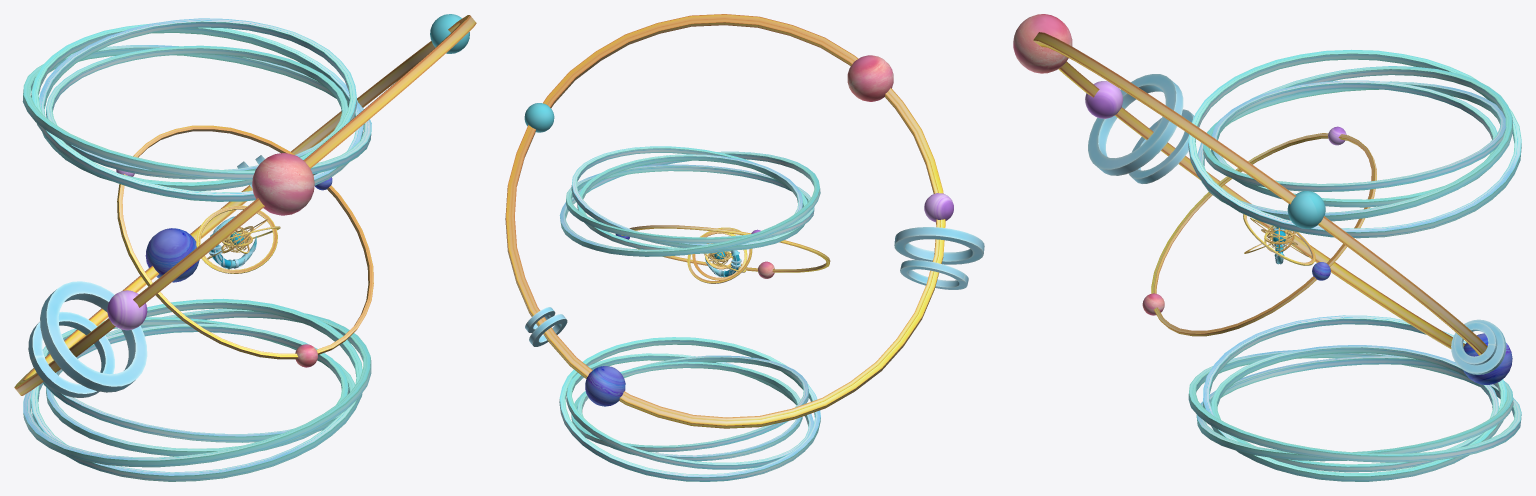
Rendered from Wonderful_Monument.fbx.
3 views of the same model, side by side, from view 1: azimuth 30°, elevation 25°; view 2: azimuth 150°, elevation 25°; view 3: azimuth 270°, elevation 25° (orthographic). The views are drawn at different scales.
Parts seen in each view (by area): view 1: Sphere.025, Sphere.026, Sphere.007, Sphere.031, Sphere.033, Sphere.029, Sphere.027, Sphere.028, Sphere.023, Sphere.035, Sphere.008; view 2: Sphere.026, Sphere.007, Sphere.025, Sphere.031, Sphere.029, Sphere.027, Sphere.028, Sphere.033, Sphere.030; view 3: Sphere.026, Sphere.025, Sphere.007, Sphere.031, Sphere.033, Sphere.029, Sphere.027, Sphere.030, Sphere.035, Sphere.028.
Boxes of the visible parts, x1=… form: Sphere.025: x1=31, y1=23, x2=363, y2=481; Sphere.026: x1=22, y1=18, x2=371, y2=467; Sphere.007: x1=14, y1=15, x2=476, y2=395; Sphere.031: x1=28, y1=281, x2=147, y2=397; Sphere.033: x1=117, y1=125, x2=373, y2=359; Sphere.029: x1=252, y1=153, x2=314, y2=215; Sphere.027: x1=107, y1=14, x2=469, y2=330; Sphere.028: x1=145, y1=228, x2=199, y2=282; Sphere.023: x1=196, y1=205, x2=277, y2=273; Sphere.035: x1=116, y1=169, x2=332, y2=367; Sphere.008: x1=209, y1=216, x2=256, y2=269; Sphere.026: x1=559, y1=146, x2=820, y2=481; Sphere.007: x1=505, y1=14, x2=945, y2=428; Sphere.025: x1=566, y1=154, x2=814, y2=469; Sphere.031: x1=894, y1=227, x2=984, y2=289; Sphere.029: x1=847, y1=55, x2=893, y2=101; Sphere.027: x1=524, y1=103, x2=953, y2=222; Sphere.028: x1=585, y1=366, x2=625, y2=406; Sphere.033: x1=621, y1=225, x2=830, y2=272; Sphere.030: x1=525, y1=307, x2=567, y2=346; Sphere.026: x1=1188, y1=49, x2=1521, y2=481; Sphere.025: x1=1196, y1=66, x2=1513, y2=472; Sphere.007: x1=1033, y1=32, x2=1487, y2=355; Sphere.031: x1=1088, y1=74, x2=1194, y2=183; Sphere.033: x1=1151, y1=133, x2=1376, y2=336; Sphere.029: x1=1013, y1=14, x2=1072, y2=73; Sphere.027: x1=1085, y1=81, x2=1325, y2=228; Sphere.030: x1=1451, y1=319, x2=1506, y2=374; Sphere.035: x1=1142, y1=126, x2=1346, y2=315; Sphere.028: x1=1463, y1=333, x2=1512, y2=384.
Size of the model in its own units: 368 by 297 by 331.
